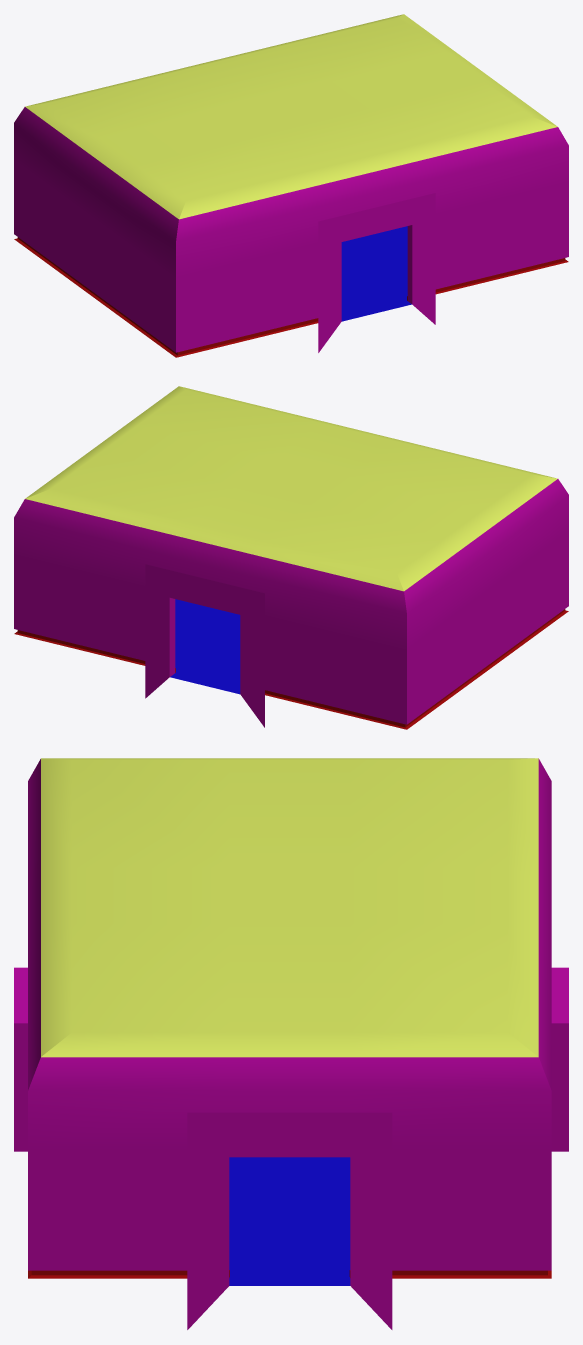
File: Room1.fbx
The picture shows the model from 3 angles, top to bottom: view 1: azimuth 30°, elevation 25°; view 2: azimuth 150°, elevation 25°; view 3: azimuth 270°, elevation 25°; orthographic projection. The views are drawn at different scales.
Visible parts, largest first — view 1: polySurface1; view 2: polySurface1; view 3: polySurface1.
Boxes of the visible parts, x1=… form: polySurface1: x1=14, y1=14, x2=568, y2=357; polySurface1: x1=14, y1=386, x2=568, y2=729; polySurface1: x1=14, y1=758, x2=568, y2=1329.
Size of the model in its own units: 35.81 by 14.36 by 26.51.
